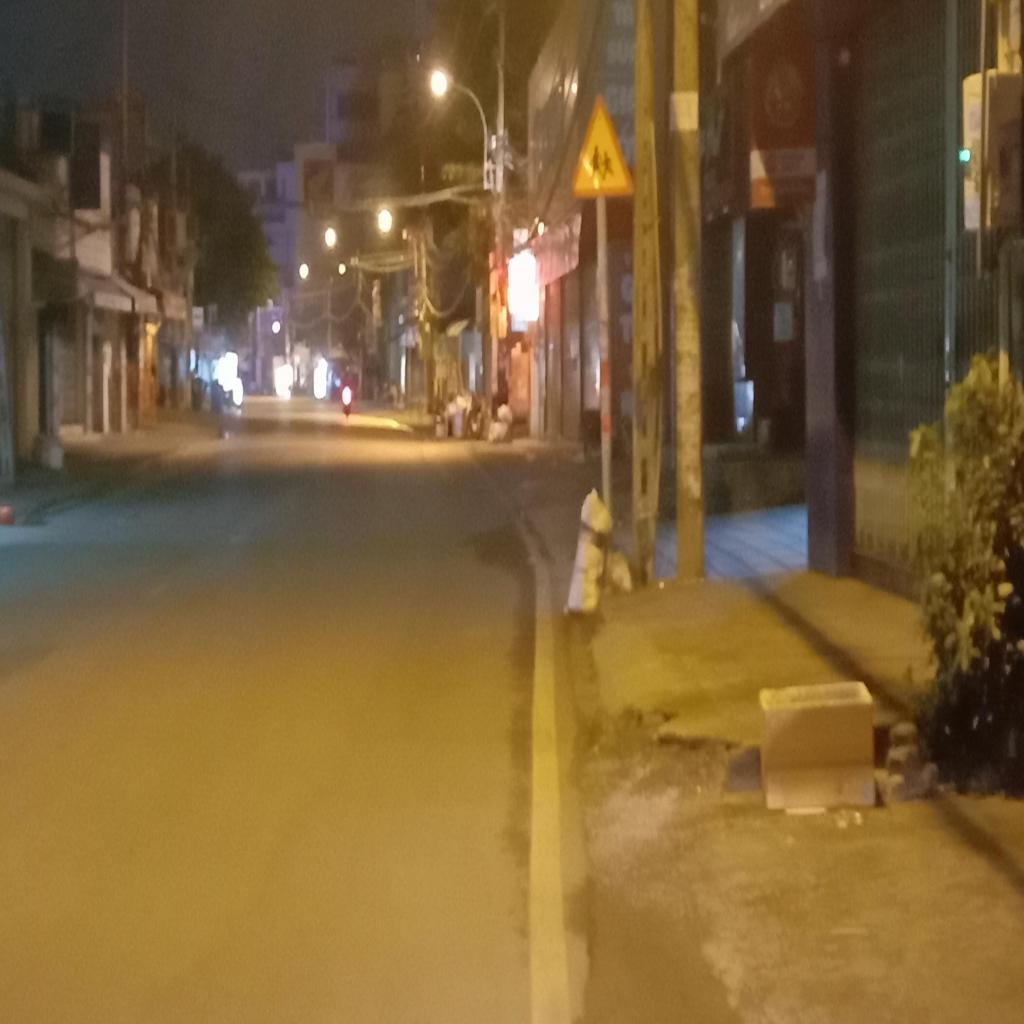chu_y_tre_em: (569, 90, 638, 201)
